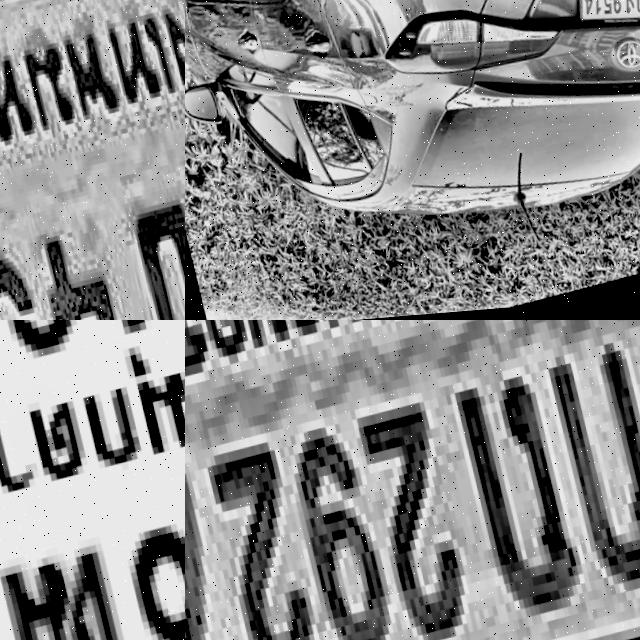license-plate: (185, 320, 640, 640), (0, 0, 185, 320), (0, 320, 185, 640), (558, 0, 640, 54)
